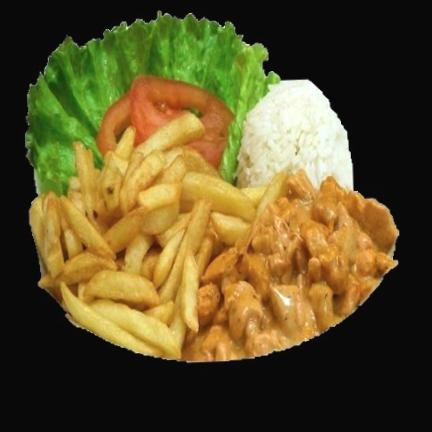chicken: (183, 179, 397, 360)
potato: (30, 120, 350, 358)
rice: (238, 79, 353, 187)
salad: (27, 13, 280, 193)
tomato: (98, 75, 234, 166)
